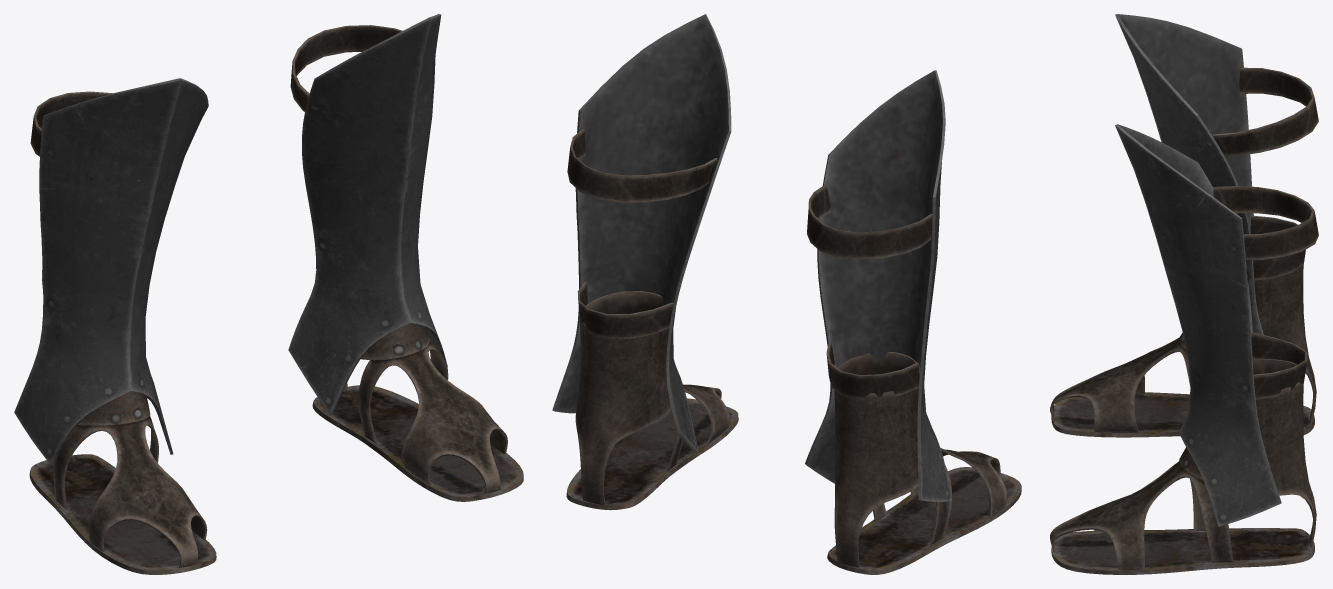
Rendered from sk_uruk_hai_greaves_medium_a1.fbx.
3 renders of one model, left to right at view 1: azimuth 30°, elevation 25°; view 2: azimuth 150°, elevation 25°; view 3: azimuth 270°, elevation 25°, orthographic. The views are drawn at different scales.
Visible parts, largest first — view 1: sk_uruk_hai_greaves_medium_a1.0, sk_uruk_hai_greaves_medium_a1.1; view 2: sk_uruk_hai_greaves_medium_a1.0, sk_uruk_hai_greaves_medium_a1.1; view 3: sk_uruk_hai_greaves_medium_a1.0, sk_uruk_hai_greaves_medium_a1.1.
Part boxes in pixels (left/top/right/bottom): sk_uruk_hai_greaves_medium_a1.0: left=14, top=14, right=523, bottom=574; sk_uruk_hai_greaves_medium_a1.1: left=30, top=25, right=402, bottom=288; sk_uruk_hai_greaves_medium_a1.0: left=552, top=14, right=1021, bottom=574; sk_uruk_hai_greaves_medium_a1.1: left=567, top=129, right=932, bottom=399; sk_uruk_hai_greaves_medium_a1.0: left=1050, top=14, right=1316, bottom=574; sk_uruk_hai_greaves_medium_a1.1: left=1213, top=67, right=1318, bottom=399.
Bounding box in the file's own units: 0.4635 × 0.2936 × 0.5046.
2 materials, 2 textured.
